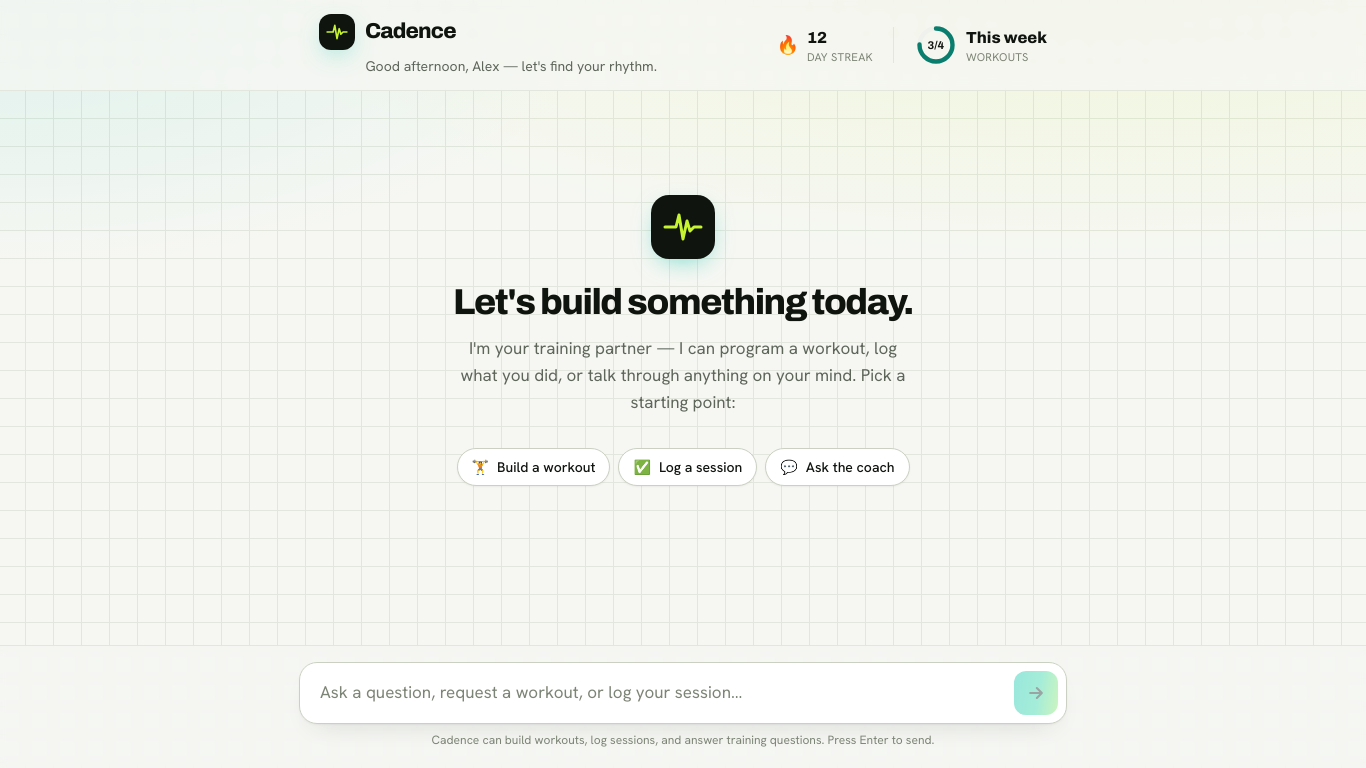
Test case: ChatApp › shows user message in the chat log
The width and height of the screenshot is (1366, 768).
Type "My test question" into the text box.
click(657, 693); type("My test question")  # box [308, 671, 1006, 715]
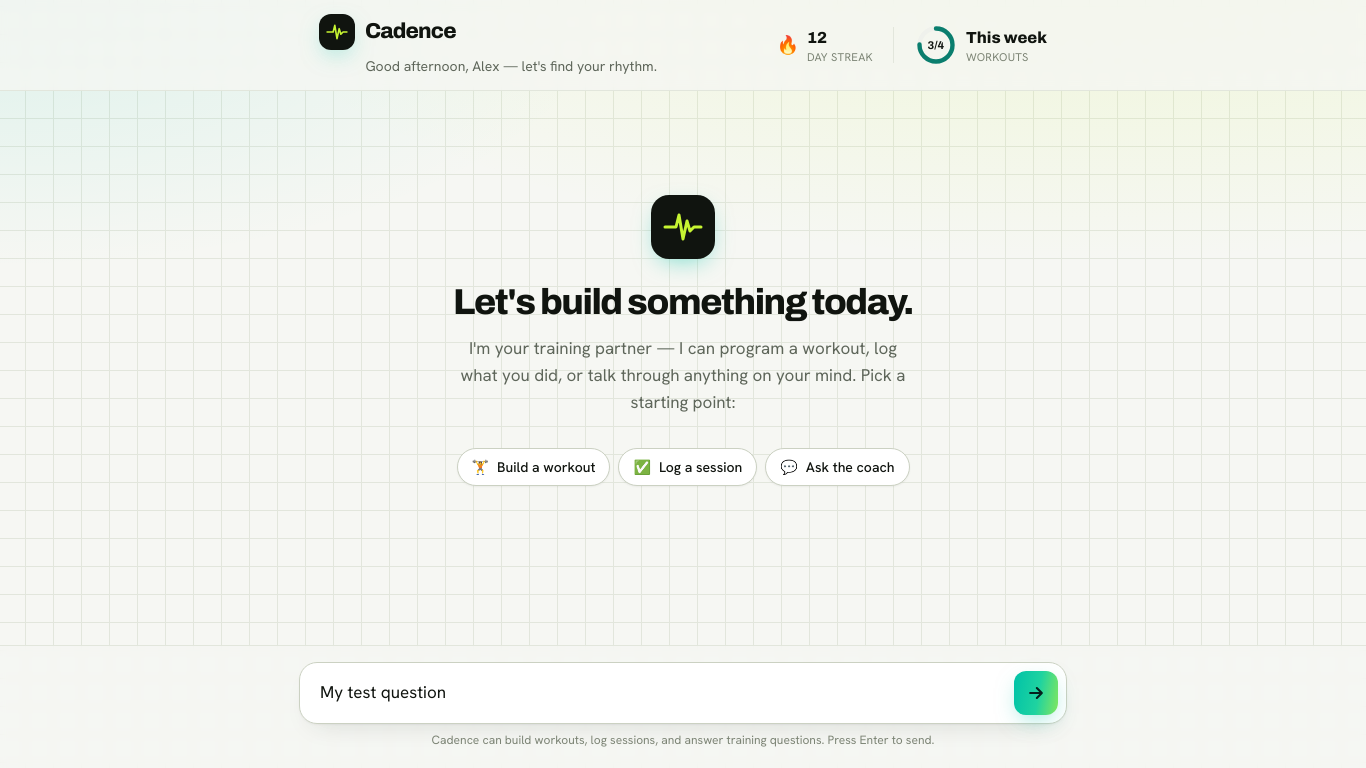
Submit the form, box [299, 662, 1067, 724]
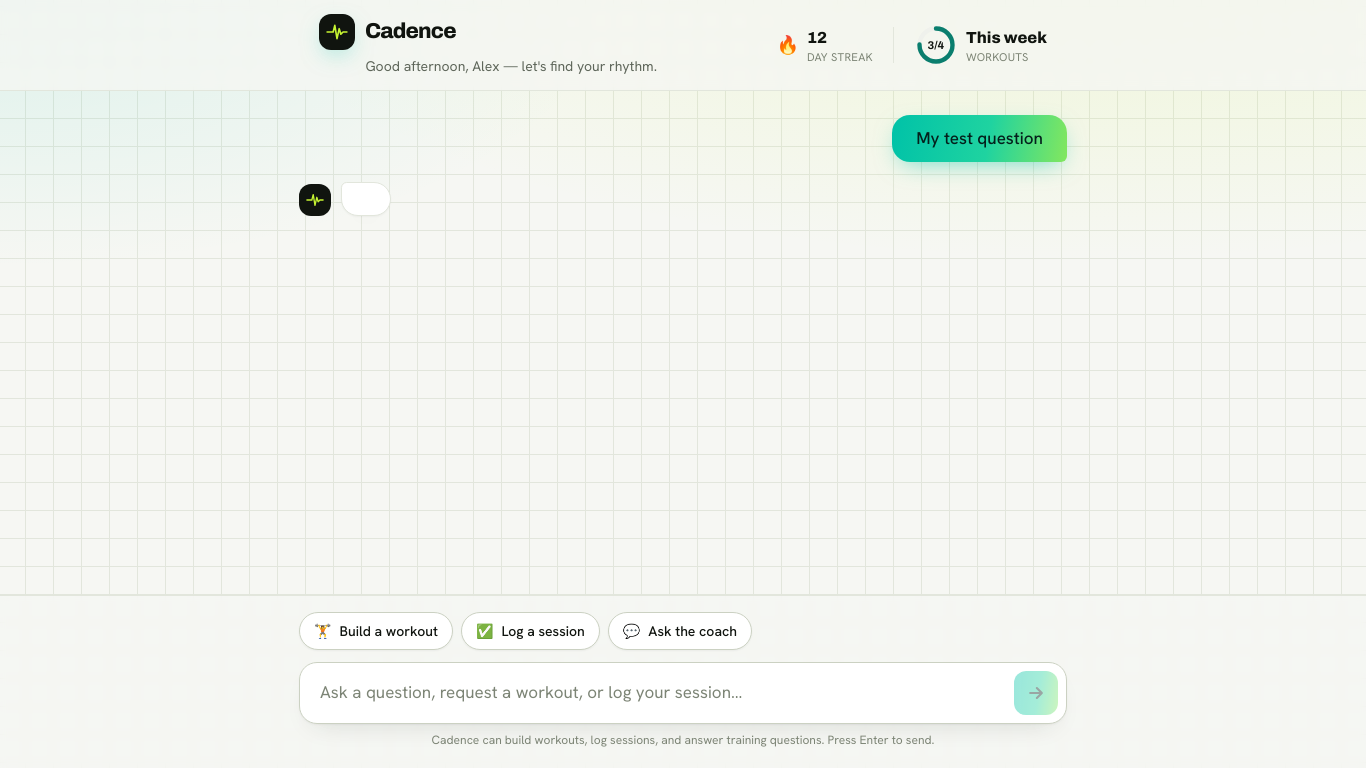
Expected: the text "My test question" is shown, [916, 125, 1043, 152]
